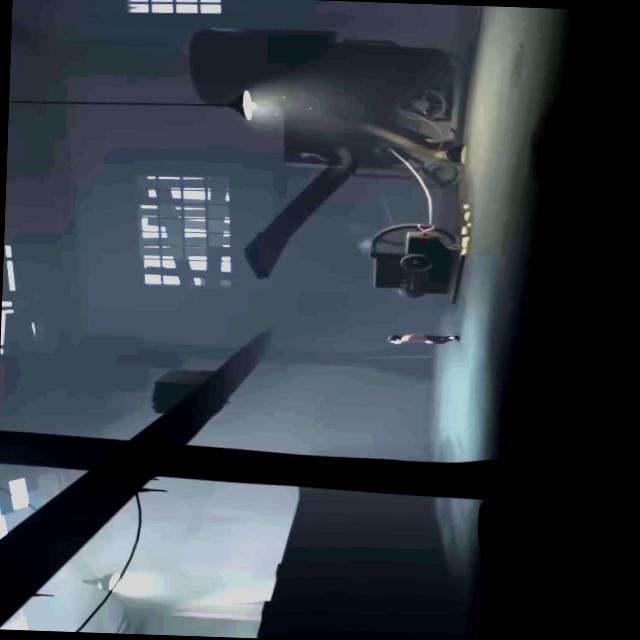boy: (386, 330, 461, 347)
